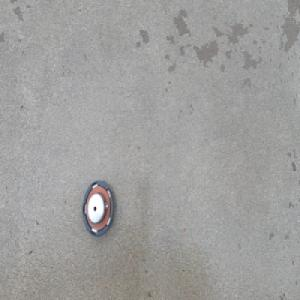FuelCap: (81, 176, 114, 238)
